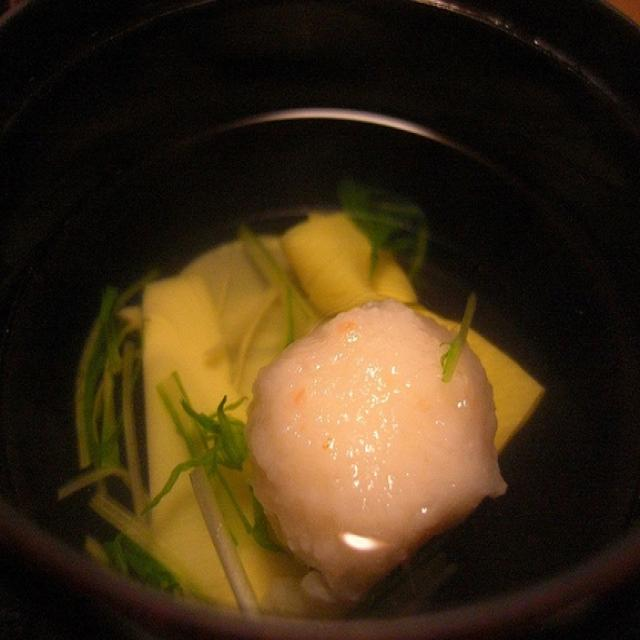汤锅炖物: (4, 8, 634, 631)
